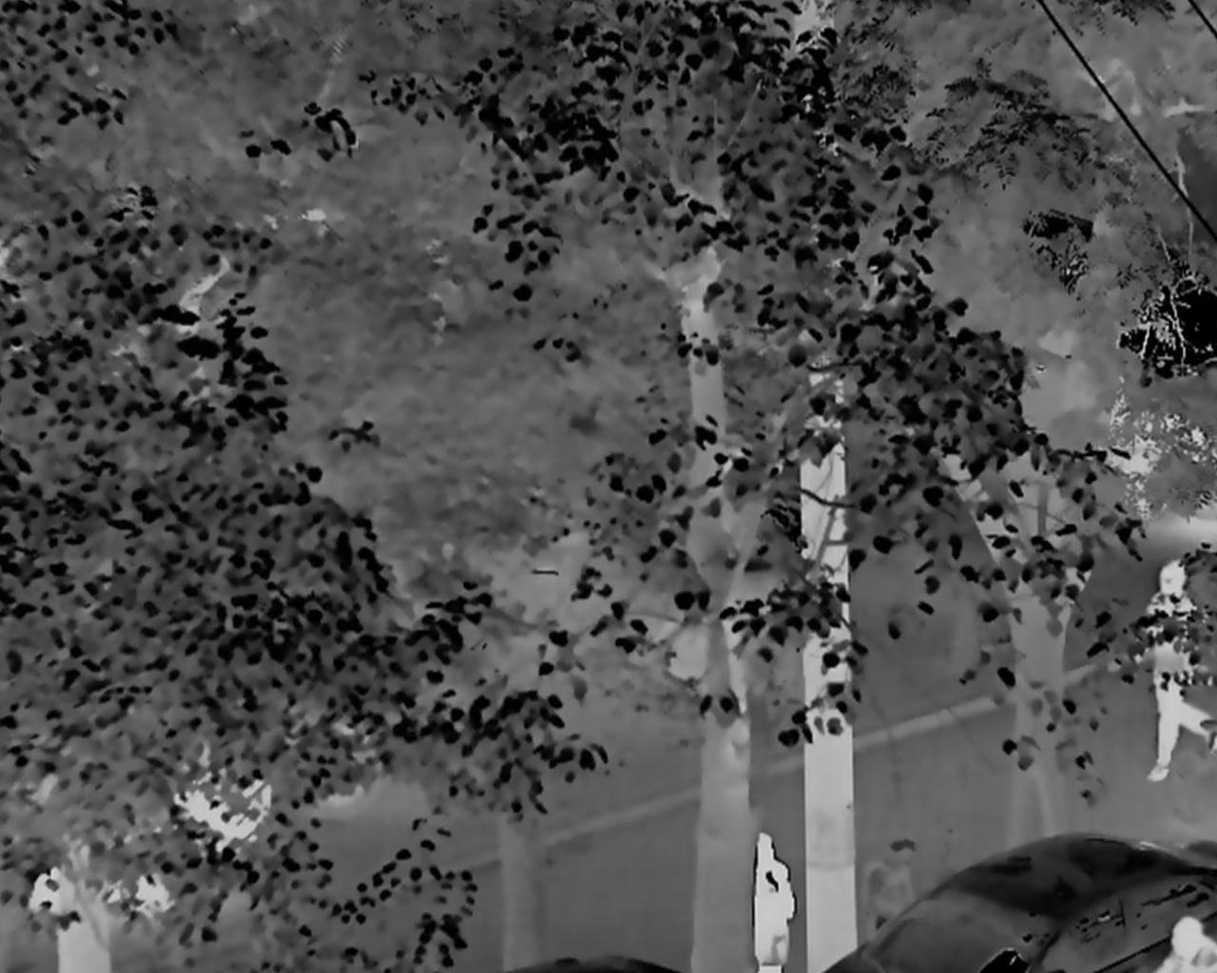person: (1130, 557, 1217, 800), (750, 827, 799, 973)
